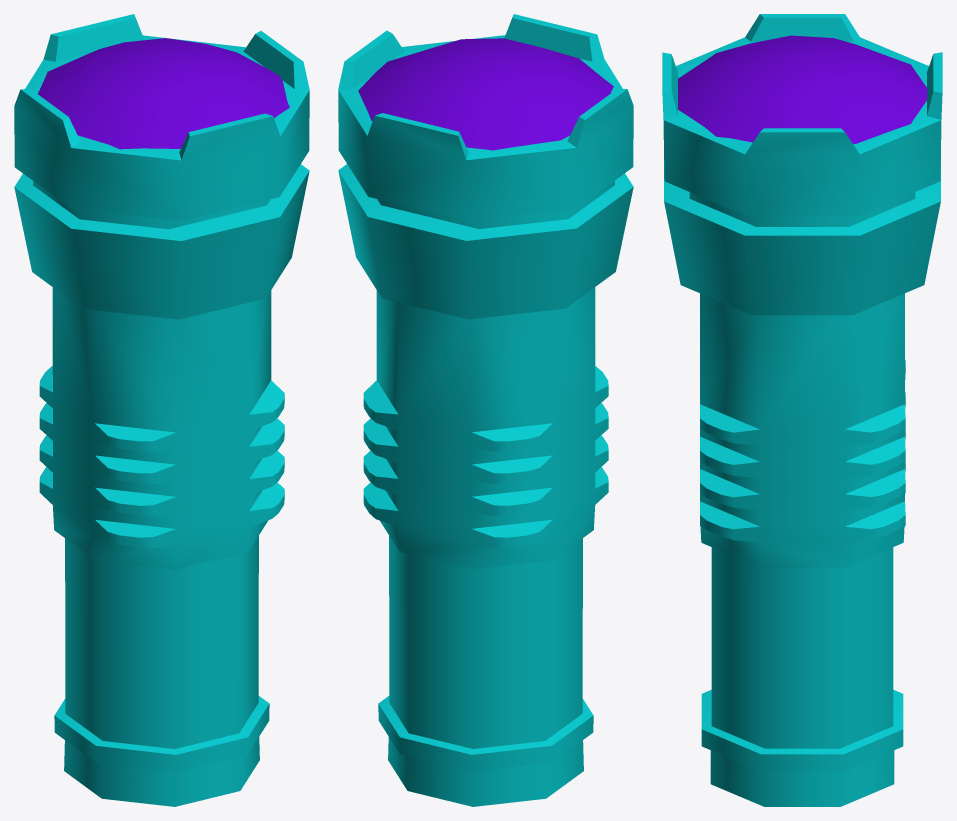
The model's file is фонарик.fbx.
The picture shows the model from 3 angles, left to right: view 1: azimuth 30°, elevation 25°; view 2: azimuth 150°, elevation 25°; view 3: azimuth 270°, elevation 25°; orthographic projection.
Parts seen in each view (by area): view 1: фонарик; view 2: фонарик; view 3: фонарик.
Boxes of the visible parts, x1=… form: фонарик: x1=14, y1=14, x2=309, y2=806; фонарик: x1=338, y1=14, x2=633, y2=806; фонарик: x1=662, y1=14, x2=942, y2=806.
Size of the model in its own units: 6.65 by 18.59 by 6.66.
